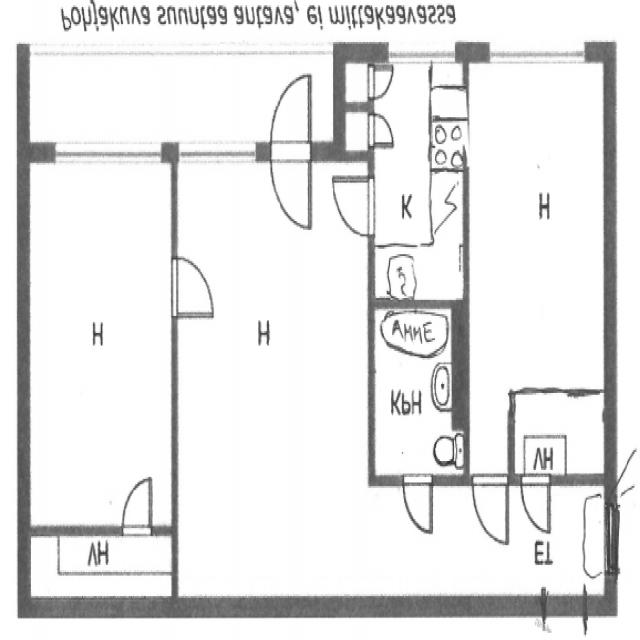door: (265, 70, 317, 236), (167, 243, 218, 324), (467, 470, 515, 552), (330, 166, 378, 240), (116, 466, 158, 544), (398, 470, 437, 541), (518, 468, 554, 541), (367, 108, 396, 150)
window: (45, 135, 167, 178), (174, 132, 262, 176), (483, 41, 592, 72), (383, 41, 461, 74), (604, 499, 623, 579)
zone: (173, 145, 376, 618), (25, 152, 175, 531), (466, 50, 610, 393), (367, 59, 467, 309), (367, 298, 463, 483), (26, 527, 172, 615), (512, 388, 608, 480)
